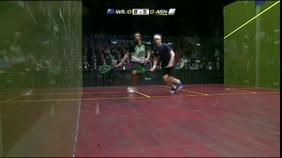down: (127, 36, 150, 69)
sit: (146, 40, 177, 69), (127, 36, 150, 69)
